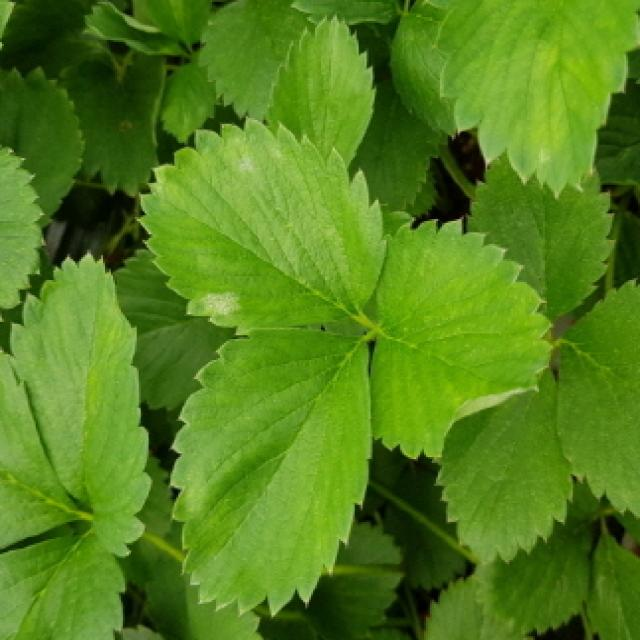Powdery Mildew Leaf: (136, 116, 390, 335)
